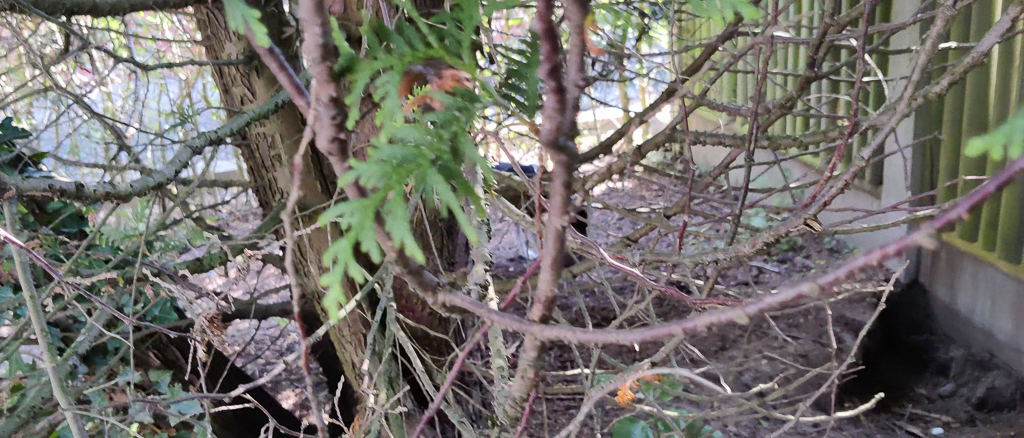Dog: (469, 147, 599, 271)
